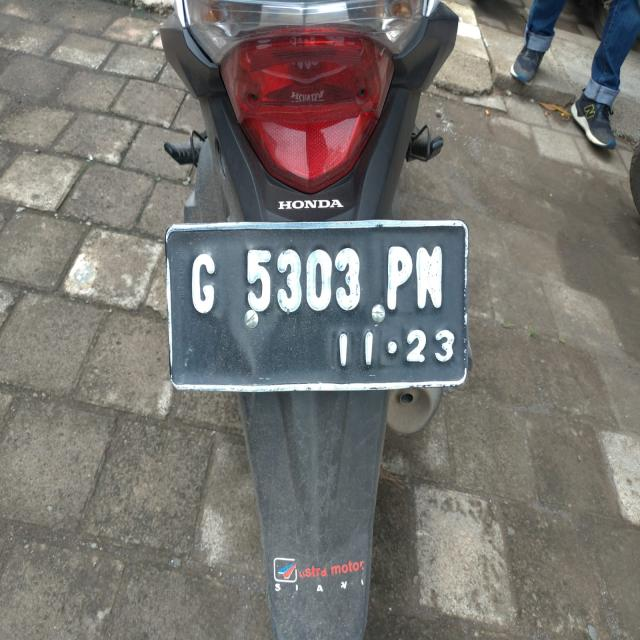plate: (167, 226, 468, 388)
